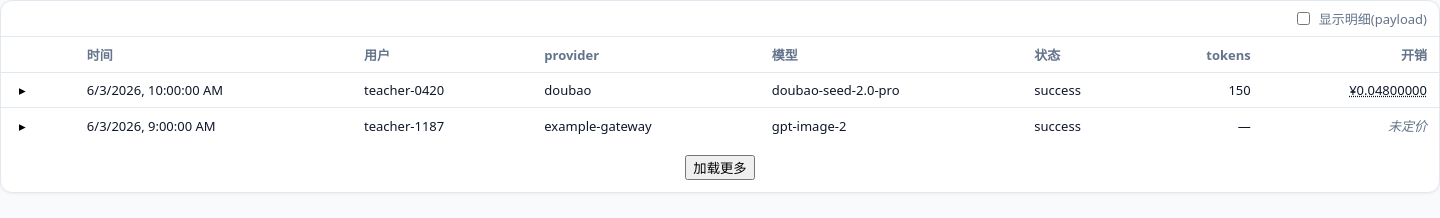
Scenario: cost cell reveals breakdown popover on click (priced row) and stays hidden for unpriced row
The image size is (1440, 218).
expect the element "成本明细" is not shown: met
Click the text "¥0.04800000" at (1388, 90), box [1349,81,1427,99]
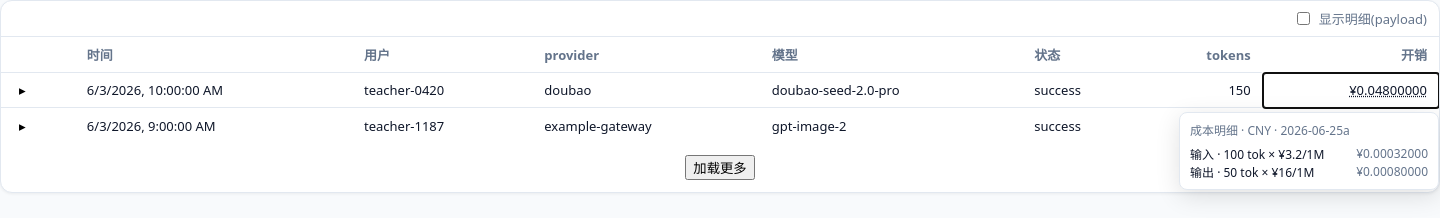
expect the element "成本明细" is shown: met, box [1190,122,1248,138]
expect the element "成本明细" shows "2026-06-25a": met, box [1280,122,1350,138]
expect the element "成本明细" shows "输入": met, box [1190,146,1214,162]
